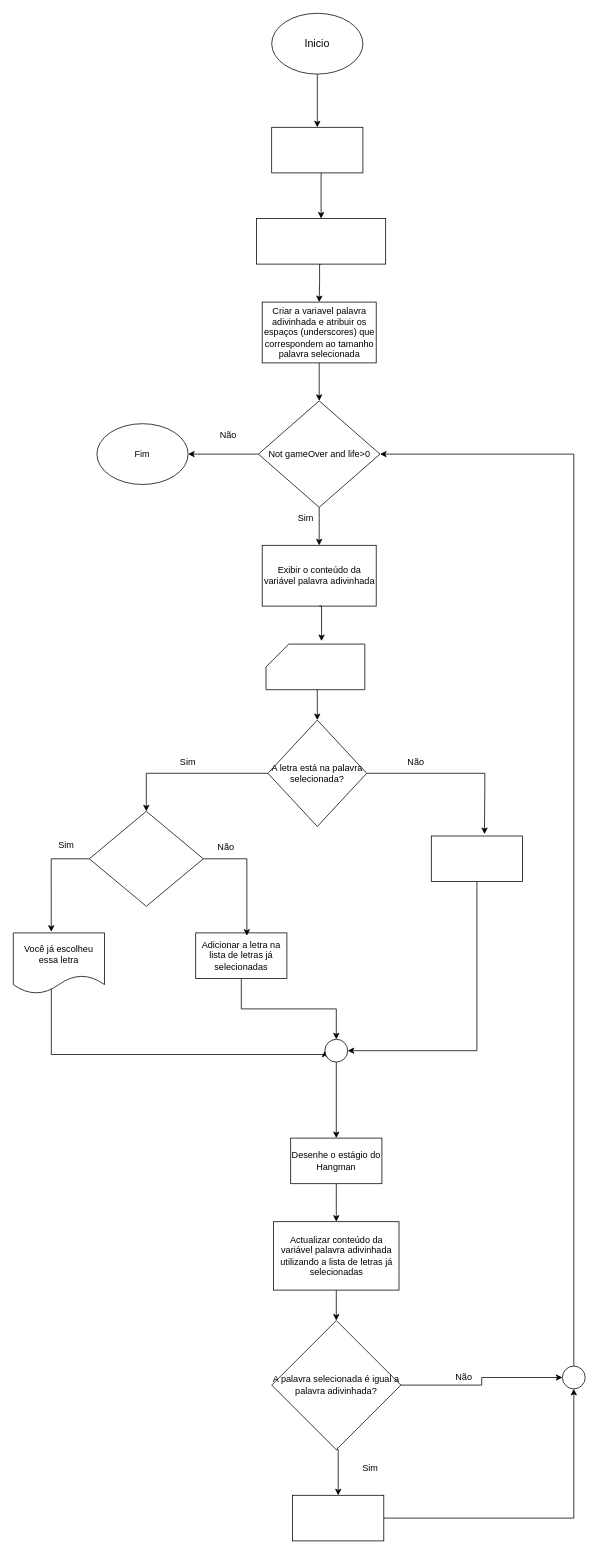
This 599x1554 diagram has some shape labels left out. The box of each missing label's shape, as (x1, y1, x2, y2) in pixels:
A letra está na lista de letras já selecionadas?: (89, 811, 203, 906)
Digite uma letra:: (265, 643, 365, 690)
gameOver=True: (292, 1495, 384, 1541)
life=6 gameOver=False: (271, 127, 363, 173)
Reduz uma vida do jogador. life = life-1: (431, 835, 522, 882)
Selecionar uma palavra aleatoriamente da lista de palavras: (256, 218, 386, 264)
